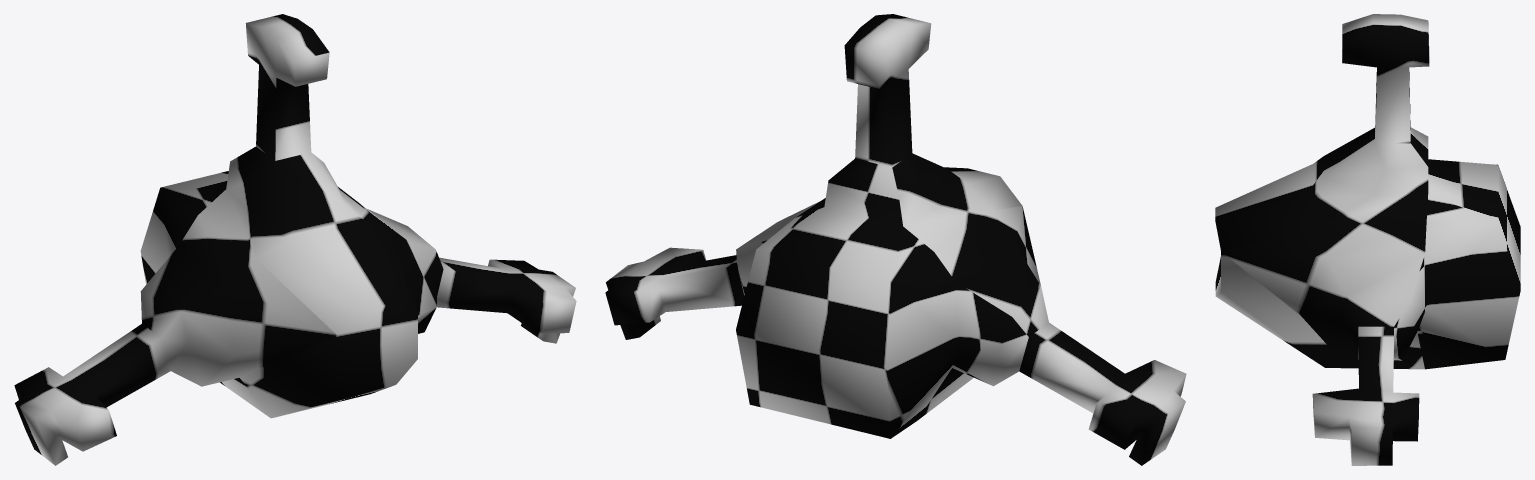
Rendered from drone_beacon.obj.
The picture shows the model from 3 angles, left to right: view 1: azimuth 30°, elevation 25°; view 2: azimuth 150°, elevation 25°; view 3: azimuth 270°, elevation 25°; orthographic projection. The views are drawn at different scales.
Visible parts, largest first — view 1: drone_lowpoly_ingame; view 2: drone_lowpoly_ingame; view 3: drone_lowpoly_ingame.
Part boxes in pixels (box(x1,y1,x2,y2)): drone_lowpoly_ingame: box(14, 14, 576, 465); drone_lowpoly_ingame: box(605, 14, 1186, 465); drone_lowpoly_ingame: box(1215, 14, 1520, 465).
Size of the model in its own units: 23.86 by 15.31 by 12.75.
Materials: 1 (1 with a texture image).
